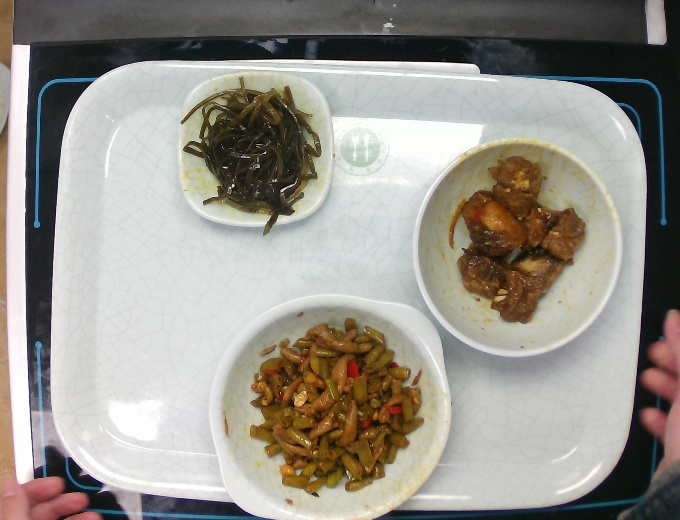JYsf-Fan_Wan: (408, 137, 622, 360)
JYsf-Shuang_Er_Wan: (205, 290, 449, 520)
JYsf-Si_Fang_Die: (177, 68, 336, 229)
